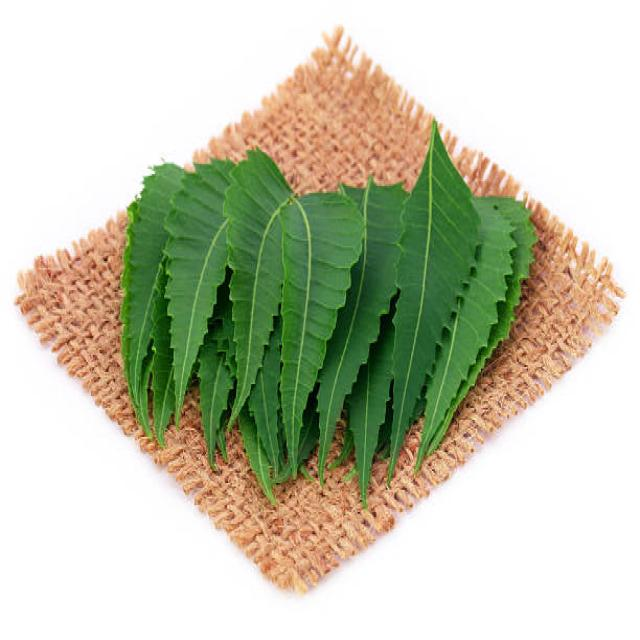Neem-Tree: (121, 122, 536, 503)
